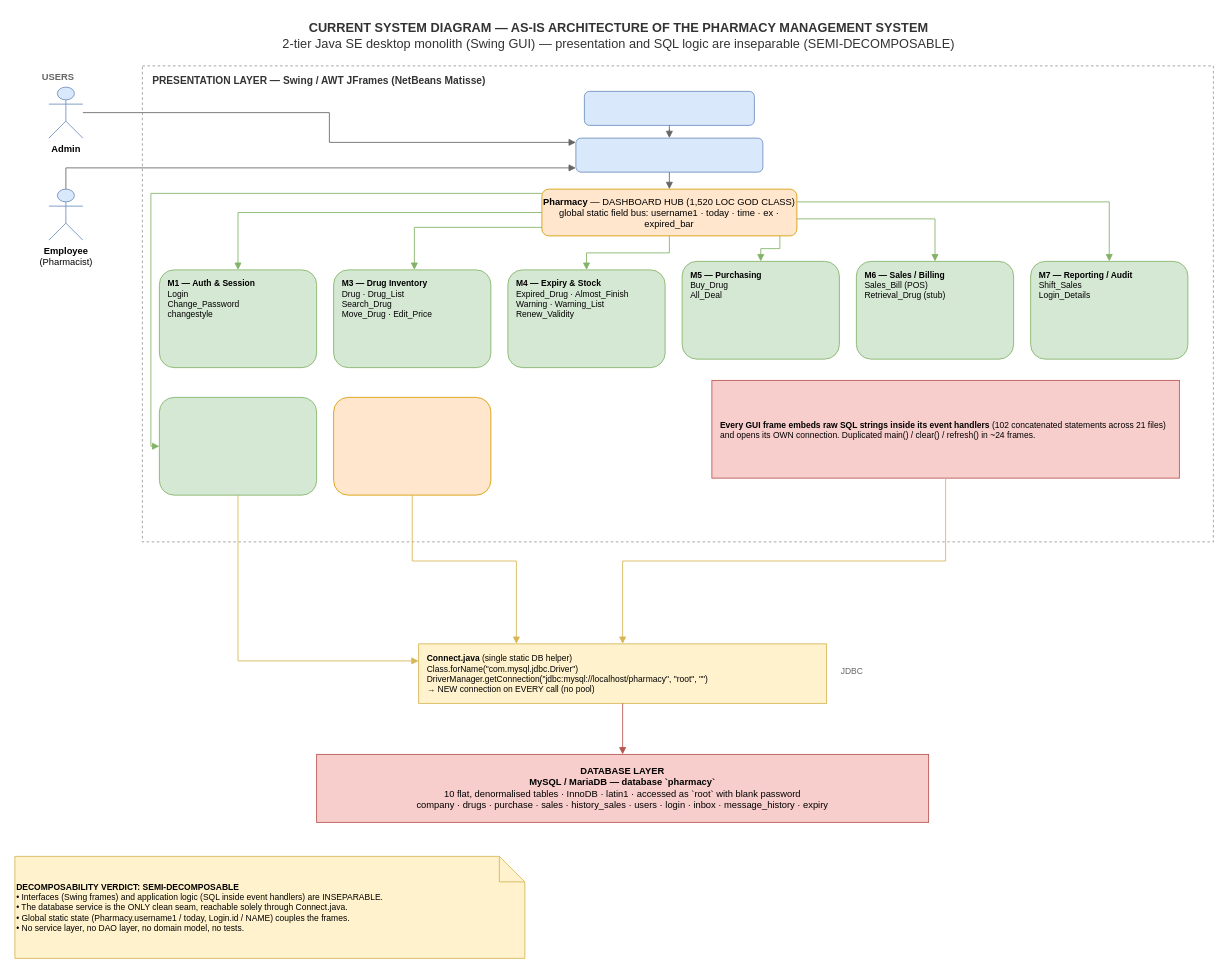
Some shapes in this 1228 by 973 pixel diagram are drawn without their labels. The shapes that lost their labels are listed below. From the top down, each one's centre as x and y in pixels, then its label:
At (669,108): "Main — entry point".
At (669,154): "Login · static Login.id / Login.NAME".
At (238,446): "M8 — Messaging Inbox · Send Show_Message".
At (412,446): "M2 — Dashboard / Nav Pharmacy (hub) Main".
